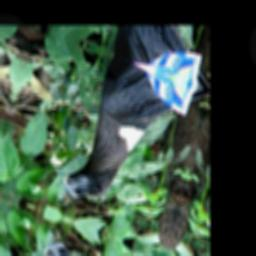Crow: (59, 50, 189, 226)
